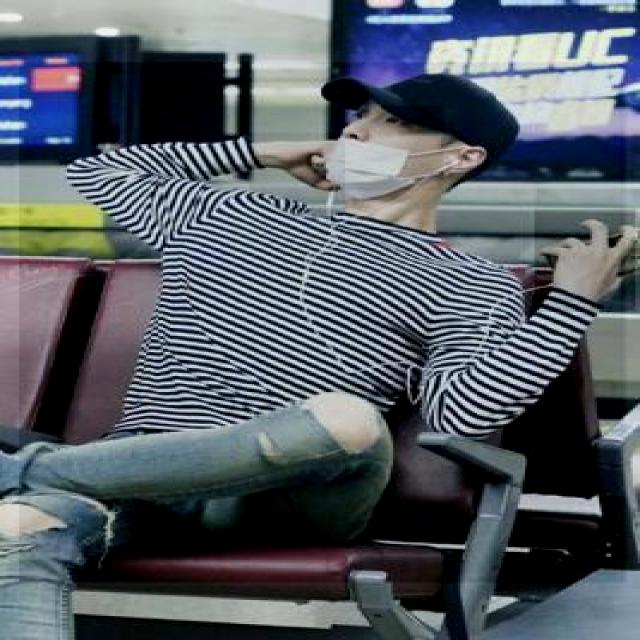face_mask: (324, 106, 446, 192)
hand_noglove: (534, 210, 638, 312), (249, 133, 345, 200)
head_nohelmet: (322, 61, 524, 150)
person: (19, 62, 628, 584)
